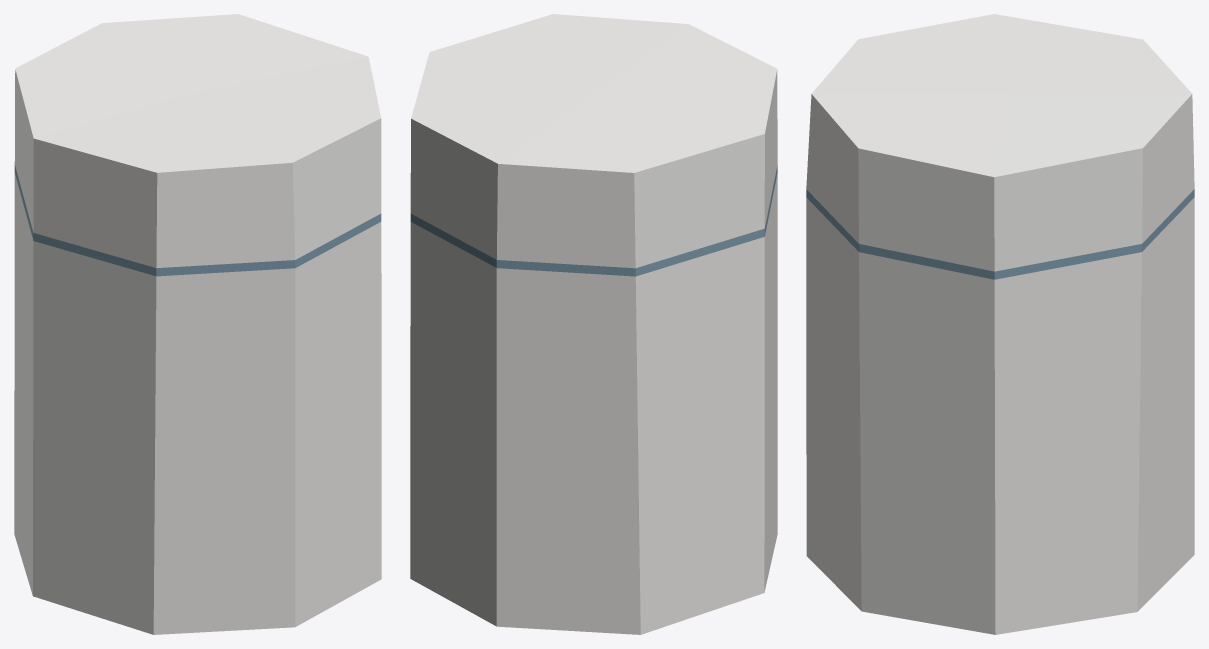
Rendered from Trashcan_1.fbx.
The picture shows the model from 3 angles, left to right: view 1: azimuth 30°, elevation 25°; view 2: azimuth 150°, elevation 25°; view 3: azimuth 270°, elevation 25°; orthographic projection.
Visible parts, largest first — view 1: Trashcan_1; view 2: Trashcan_1; view 3: Trashcan_1.
Part boxes in pixels (bbox=[...]): Trashcan_1: bbox=[14, 14, 381, 634]; Trashcan_1: bbox=[410, 14, 777, 634]; Trashcan_1: bbox=[806, 14, 1194, 634].
Size of the model in its own units: 37.72 by 37.88 by 49.73.
